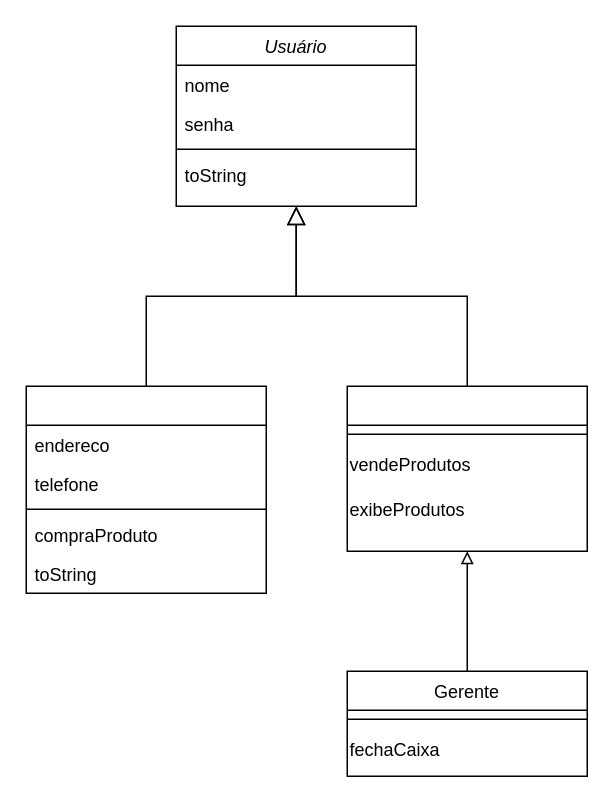
Image size: 614x803. Some labels were removed from this diagram. Each missing label, with the box of its shape:
Cliente: (25, 385, 266, 593)
Funcionário: (346, 385, 587, 551)
